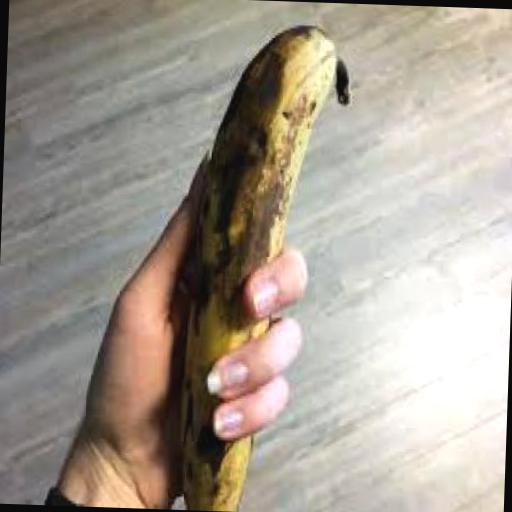biodegradable: (174, 21, 352, 512)
